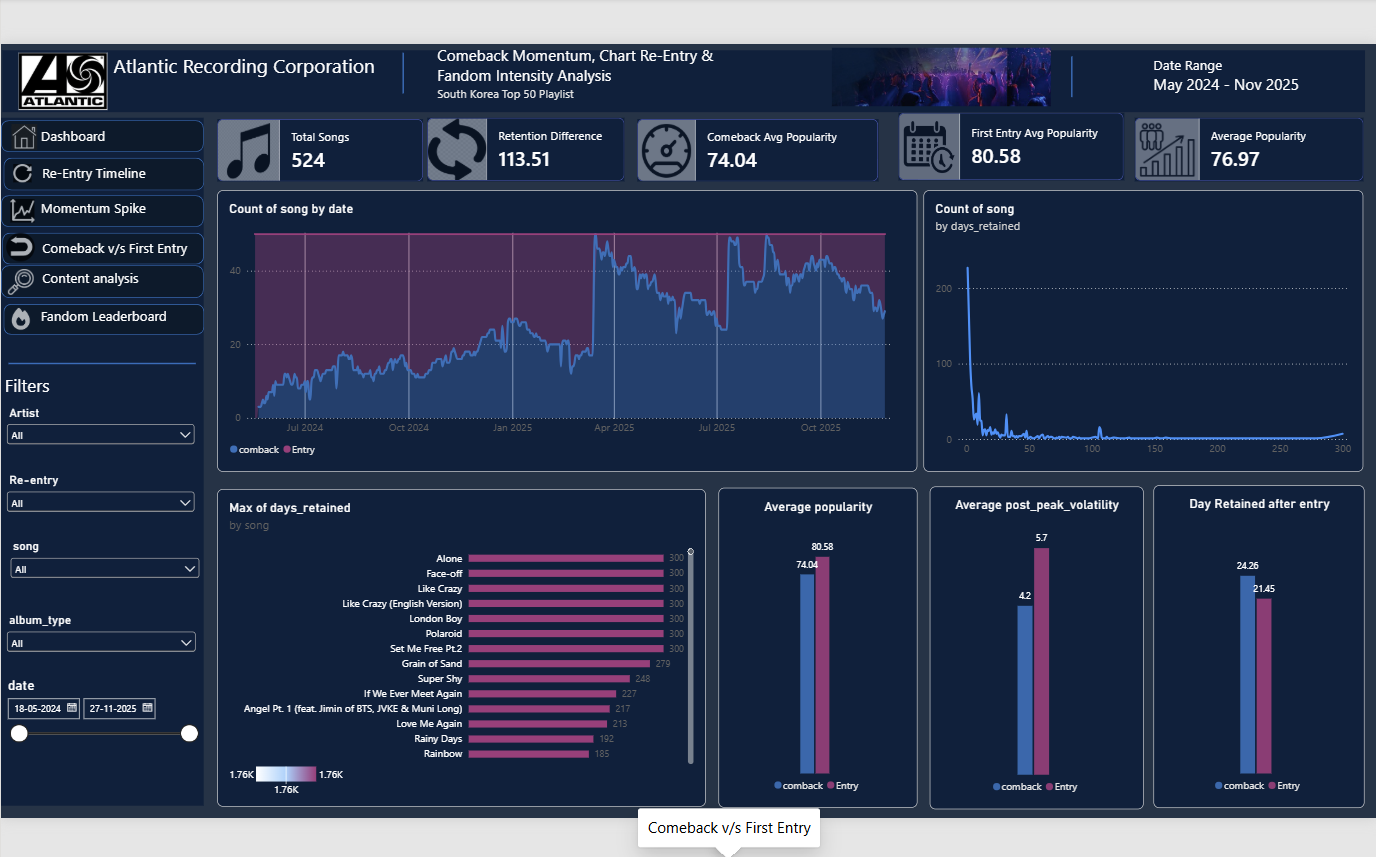

Layout of this report page (visuals, bound fields, positions):
{"tool":"powerbi","page":{"name":"Comeback v/s First Entry","canvas":[1920,1080],"ordinal":3},"visuals":[{"type":"shape","box":[0,102.9,282.9,960],"z":0},{"type":"slicer","fields":{"Values":["Atlantic_South_Korea_data_processed.artist"]},"box":[3.5,504.1,271.4,94.3],"z":1000},{"type":"slicer","fields":{"Values":["Atlantic_South_Korea_data_processed.date"]},"box":[1.7,884.3,277.1,145.7],"z":2000},{"type":"slicer","fields":{"Values":["Atlantic_South_Korea_data_processed.song"]},"box":[8.7,690.7,272.9,77.1],"z":3000},{"type":"slicer","fields":{"Values":["Atlantic_South_Korea_data_processed.re_entry"]},"box":[3.5,598.3,271.4,77.1],"z":4000},{"type":"cardVisual","fields":{"Data":["Avg(Atlantic_South_Korea_data_processed.popularity)"]},"box":[1251.5,96.7,314.9,94.7],"z":5000},{"type":"cardVisual","fields":{"Data":["Count(Atlantic_South_Korea_data_processed.song)"]},"box":[302.1,105,287.1,87.1],"z":6000},{"type":"cardVisual","fields":{"Data":["Day_Retained.Retention_Difference"]},"box":[594.8,102.9,275.6,89],"z":7000},{"type":"cardVisual","fields":{"Data":["Avg(Atlantic_South_Korea_data_processed.popularity)"]},"box":[887.8,104.7,336.6,87.2],"z":8000},{"type":"cardVisual","fields":{"Data":["Avg(Atlantic_South_Korea_data_processed.popularity)"]},"box":[1582.9,102.9,319,88.5],"z":9000},{"type":"slicer","fields":{"Values":["Atlantic_South_Korea_data_processed.album_type"]},"box":[3.5,793.6,272.9,72.9],"z":10000},{"type":"shape","box":[1.7,8.3,1901.7,86.7],"z":11000},{"type":"image","box":[15,11.7,141.7,80],"z":12000},{"type":"textbox","box":[156.7,11.7,406.7,80],"z":13000},{"type":"shape","box":[533.3,11.7,55,56.7],"z":14000},{"type":"shape","box":[1480,18,26.7,56.7],"z":15000},{"type":"textbox","box":[608.3,0,420,86.7],"z":16000},{"type":"textbox","box":[1608.3,15,260,71.7],"z":17000},{"type":"image","box":[1076.7,5,471.7,81.7],"z":18000},{"type":"shape","box":[0,105.7,282.9,44.3],"z":19000},{"type":"image","box":[1.2,111.2,61.2,36.2],"z":20000},{"type":"textbox","box":[55.7,115.7,202.9,34.3],"z":21000},{"type":"shape","box":[2.9,158.6,280,45.7],"z":22000},{"type":"shape","box":[0,211.4,282.9,44.3],"z":23000},{"type":"shape","box":[1.4,262.9,281.4,44.3],"z":24000},{"type":"shape","box":[0,308.6,282.9,45.7],"z":25000},{"type":"image","box":[2.9,167.1,52.9,25.7],"z":26000},{"type":"image","box":[2.9,215.7,52.9,32.9],"z":27000},{"type":"image","box":[0,262.9,55,40],"z":28000},{"type":"image","box":[0,314.3,55,36.2],"z":29000},{"type":"textbox","box":[57.5,167.5,202.3,36.6],"z":30000},{"type":"textbox","box":[55.7,215.7,202.3,36.6],"z":31000},{"type":"textbox","box":[57.6,272.1,204.1,36.6],"z":32000},{"type":"textbox","box":[57.5,313.8,202.3,36.6],"z":33000},{"type":"shape","box":[2.9,362.9,280,42.9],"z":34000},{"type":"image","box":[0,366.2,55,36.2],"z":35000},{"type":"textbox","box":[55,366.2,205,36.2],"z":36000},{"type":"textbox","box":[5.7,460,277.1,32.9],"z":37000},{"type":"shape","box":[10,430,261.4,30],"z":38000},{"type":"clusteredColumnChart","title":"Average popularity","fields":{"Series":["Atlantic_South_Korea_data_processed.First_entryORcomback"],"Y":["Avg(Atlantic_South_Korea_data_processed.popularity)"]},"box":[1001.2,619.2,277.3,446.5],"z":39000},{"type":"clusteredColumnChart","title":"Average post_peak_volatility","fields":{"Series":["Atlantic_South_Korea_data_processed.First_entryORcomback"],"Y":["Avg(Atlantic_South_Korea_data_processed.post_peak_volatility)"]},"box":[1295.9,617.4,298.3,450],"z":40000},{"type":"stackedAreaChart","title":"Count of song by date","fields":{"Category":["Atlantic_South_Korea_data_processed.date.Variation.Date Hierarchy.Year","Atlantic_South_Korea_data_processed.date.Variation.Date Hierarchy.Month","Atlantic_South_Korea_data_processed.date.Variation.Date Hierarchy.Day"],"Series":["Atlantic_South_Korea_data_processed.First_entryORcomback"],"Y":["Count(Atlantic_South_Korea_data_processed.song)"]},"box":[301.7,204.1,976.7,392.4],"z":41000},{"type":"clusteredColumnChart","title":"Day Retained after entry","fields":{"Series":["Atlantic_South_Korea_data_processed.First_entryORcomback"],"Y":["Avg(Day_Retained.days_retained)"]},"box":[1608.1,615.7,294.8,450],"z":43000},{"type":"lineChart","fields":{"Category":["Day_Retained.days_retained"],"Y":["Count(Atlantic_South_Korea_data_processed.song)"]},"box":[1287.2,204.1,614,392.4],"z":44000},{"type":"clusteredBarChart","fields":{"Category":["Atlantic_South_Korea_data_processed.song"],"Y":["Max(Day_Retained.days_retained)"]},"box":[301.7,620.9,682,443],"z":45000}]}

Visuals, with their boxes on the page's 1920x1080 design canvas (x1, y1, x2, y2). These are canvas units, not pixel positions in the 1376x857 screenshot, which may show the page scaled, cropped or inside an application window:
shape: <box>0,103,283,1063</box>
slicer - Atlantic_South_Korea_data_processed.artist: <box>4,504,275,598</box>
slicer - Atlantic_South_Korea_data_processed.date: <box>2,884,279,1030</box>
slicer - Atlantic_South_Korea_data_processed.song: <box>9,691,282,768</box>
slicer - Atlantic_South_Korea_data_processed.re_entry: <box>4,598,275,675</box>
cardVisual - Avg(Atlantic_South_Korea_data_processed.popularity): <box>1252,97,1566,191</box>
cardVisual - Count(Atlantic_South_Korea_data_processed.song): <box>302,105,589,192</box>
cardVisual - Day_Retained.Retention_Difference: <box>595,103,870,192</box>
cardVisual - Avg(Atlantic_South_Korea_data_processed.popularity): <box>888,105,1224,192</box>
cardVisual - Avg(Atlantic_South_Korea_data_processed.popularity): <box>1583,103,1902,191</box>
slicer - Atlantic_South_Korea_data_processed.album_type: <box>4,794,276,866</box>
shape: <box>2,8,1903,95</box>
image: <box>15,12,157,92</box>
textbox: <box>157,12,563,92</box>
shape: <box>533,12,588,68</box>
shape: <box>1480,18,1507,75</box>
textbox: <box>608,0,1028,87</box>
textbox: <box>1608,15,1868,87</box>
image: <box>1077,5,1548,87</box>
shape: <box>0,106,283,150</box>
image: <box>1,111,62,147</box>
textbox: <box>56,116,259,150</box>
shape: <box>3,159,283,204</box>
shape: <box>0,211,283,256</box>
shape: <box>1,263,283,307</box>
shape: <box>0,309,283,354</box>
image: <box>3,167,56,193</box>
image: <box>3,216,56,249</box>
image: <box>0,263,55,303</box>
image: <box>0,314,55,350</box>
textbox: <box>58,168,260,204</box>
textbox: <box>56,216,258,252</box>
textbox: <box>58,272,262,309</box>
textbox: <box>58,314,260,350</box>
shape: <box>3,363,283,406</box>
image: <box>0,366,55,402</box>
textbox: <box>55,366,260,402</box>
textbox: <box>6,460,283,493</box>
shape: <box>10,430,271,460</box>
"Average popularity" clusteredColumnChart: <box>1001,619,1278,1066</box>
"Average post_peak_volatility" clusteredColumnChart: <box>1296,617,1594,1067</box>
"Count of song by date" stackedAreaChart: <box>302,204,1278,596</box>
"Day Retained after entry" clusteredColumnChart: <box>1608,616,1903,1066</box>
lineChart - Day_Retained.days_retained x Count(Atlantic_South_Korea_data_processed.song): <box>1287,204,1901,596</box>
clusteredBarChart - Atlantic_South_Korea_data_processed.song x Max(Day_Retained.days_retained): <box>302,621,984,1064</box>
